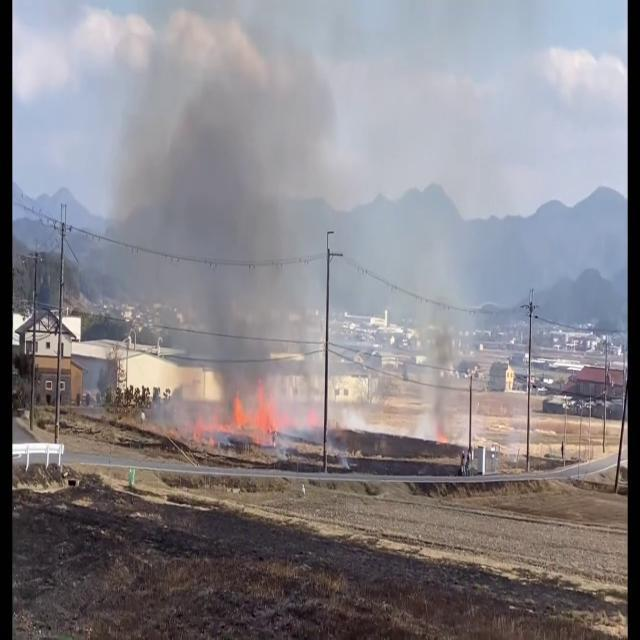Smoke: (85, 3, 497, 440), (80, 6, 332, 441)
